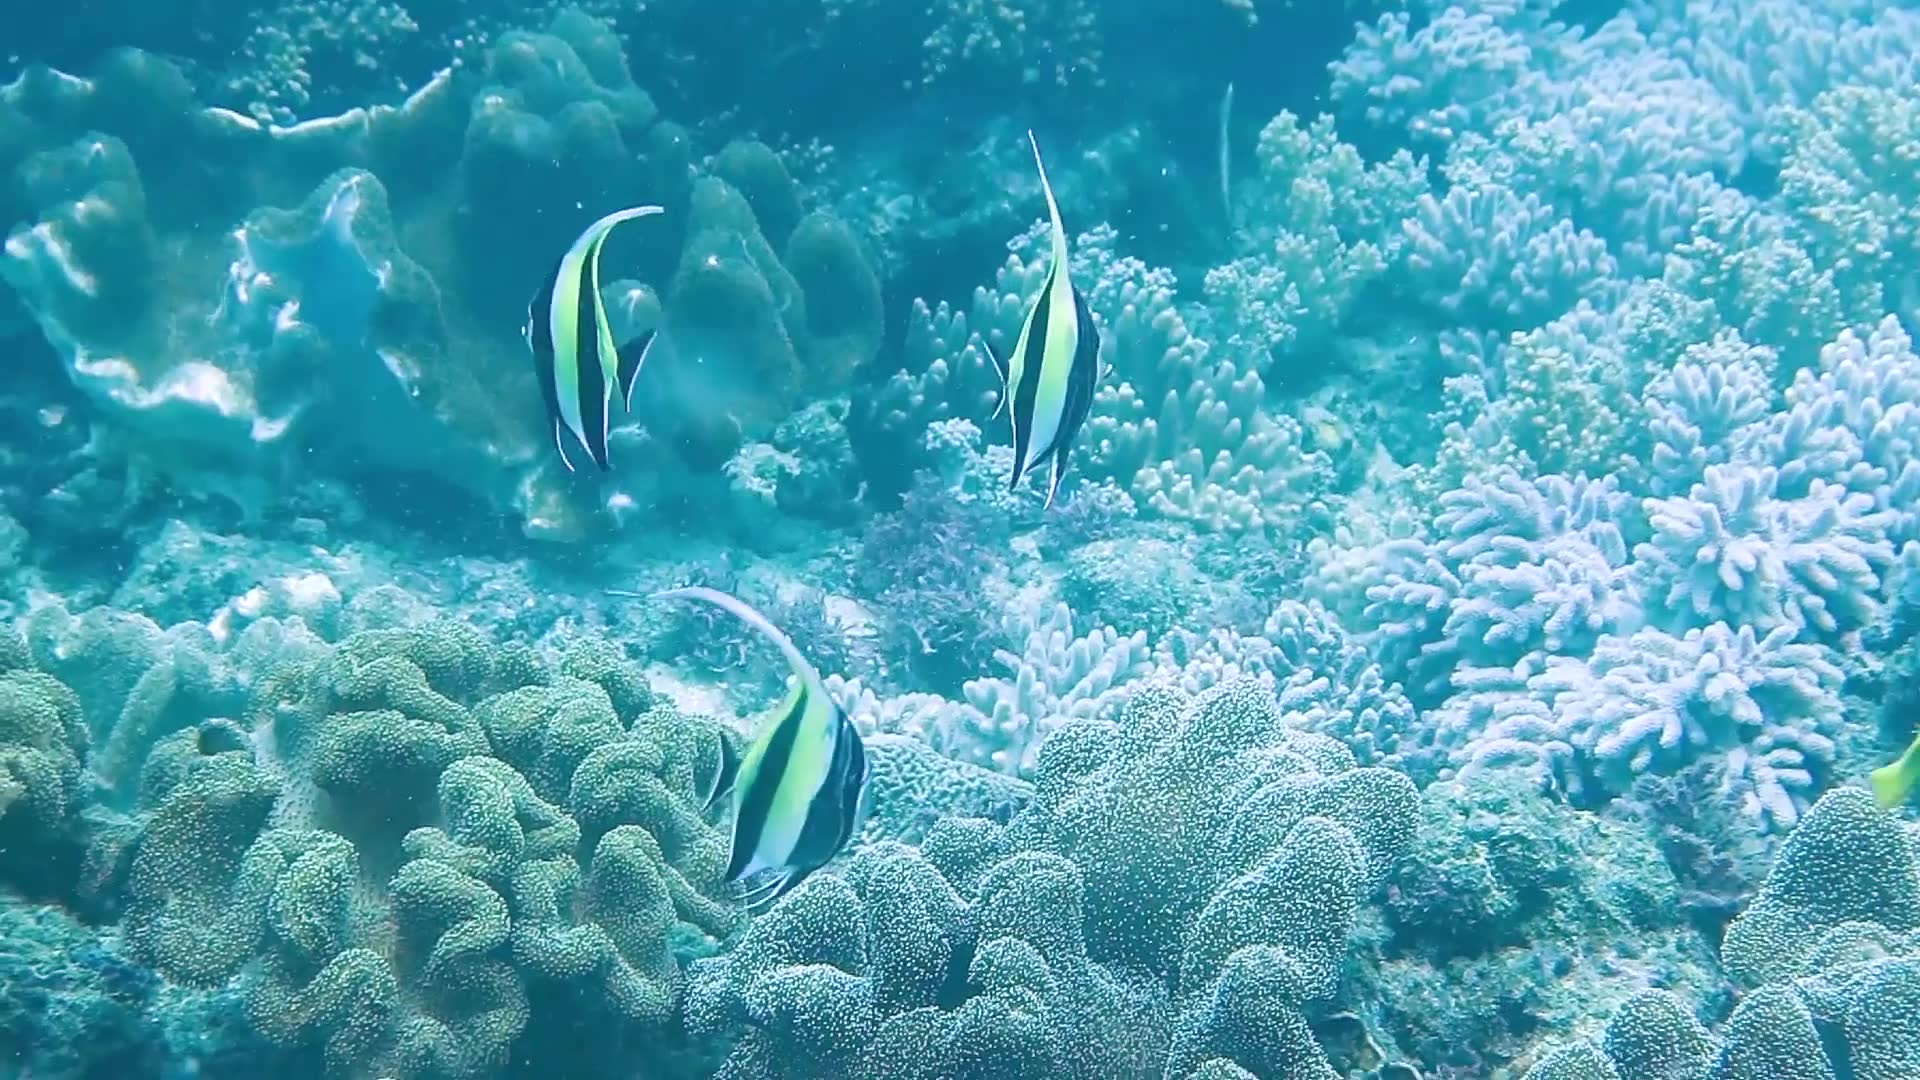Zanclus cornutus: (936, 169, 1153, 537), (676, 600, 898, 880), (526, 187, 674, 477)
